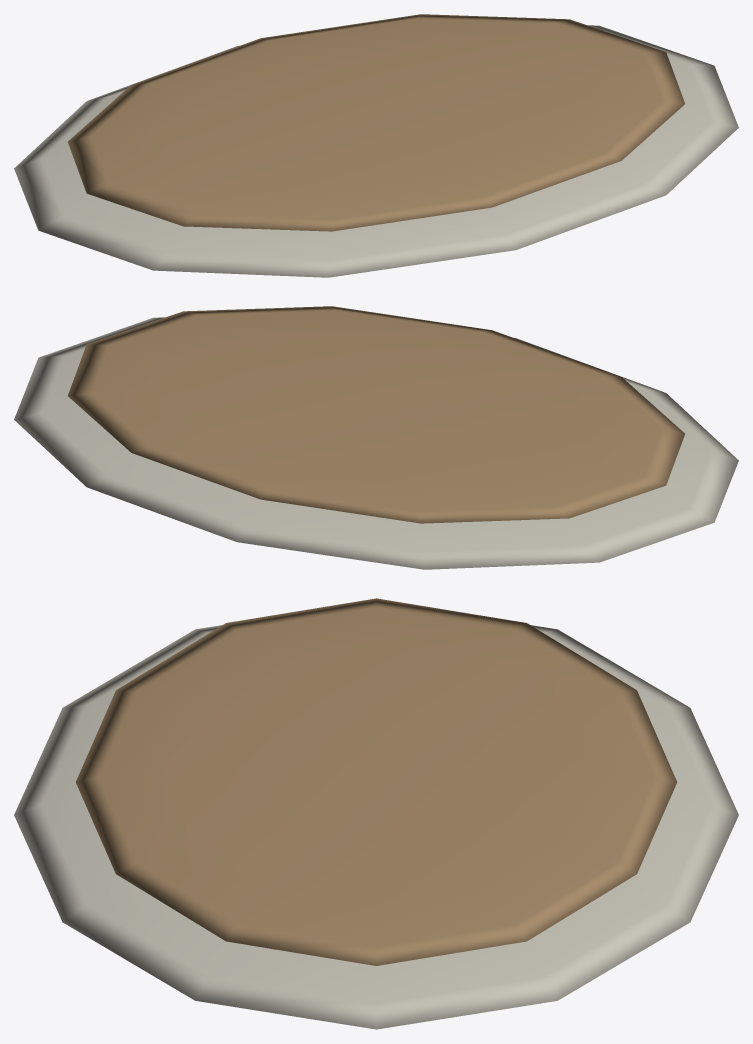
The model's file is zoo-and-safari-park-builder-mud-wallow-69b7a704__21477.glb.
The picture shows the model from 3 angles, top to bottom: view 1: azimuth 30°, elevation 25°; view 2: azimuth 150°, elevation 25°; view 3: azimuth 270°, elevation 25°; orthographic projection. The views are drawn at different scales.
Visible parts, largest first — view 1: mud-wallow; view 2: mud-wallow; view 3: mud-wallow.
Boxes of the visible parts, x1,y1,x2,y2 form: mud-wallow: (14, 14, 738, 277); mud-wallow: (14, 306, 738, 569); mud-wallow: (14, 598, 738, 1029).
Bounding box in the file's own units: 2.8 × 0.22 × 2.
